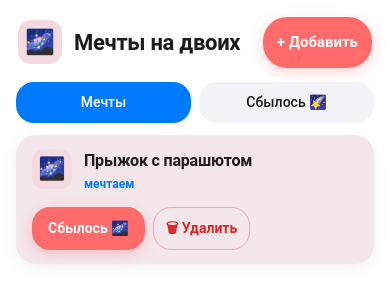
Bucket — soft error on action failure › clears the inline error when a subsequent action succeeds
The width and height of the screenshot is (390, 303).
Step 1. Click the button "Сбылось 🌌" → (88,228), box [32, 206, 145, 250]
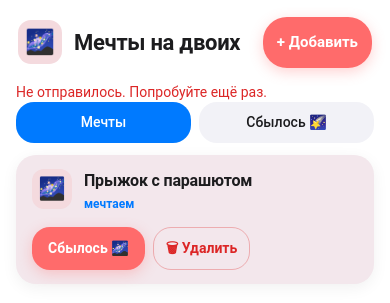
Expected: the message "Не отправилось. Попробуйте ещё раз." is shown, [16, 84, 267, 100]
Step 2. Click the button "Сбылось 🌌" → (88,248), box [32, 226, 145, 270]
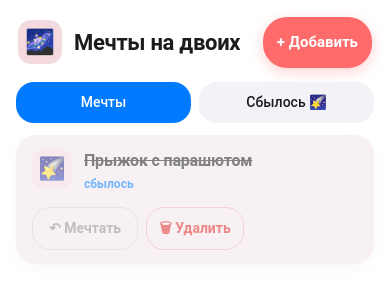
Expected: the message "Не отправилось. Попробуйте ещё раз." is gone
